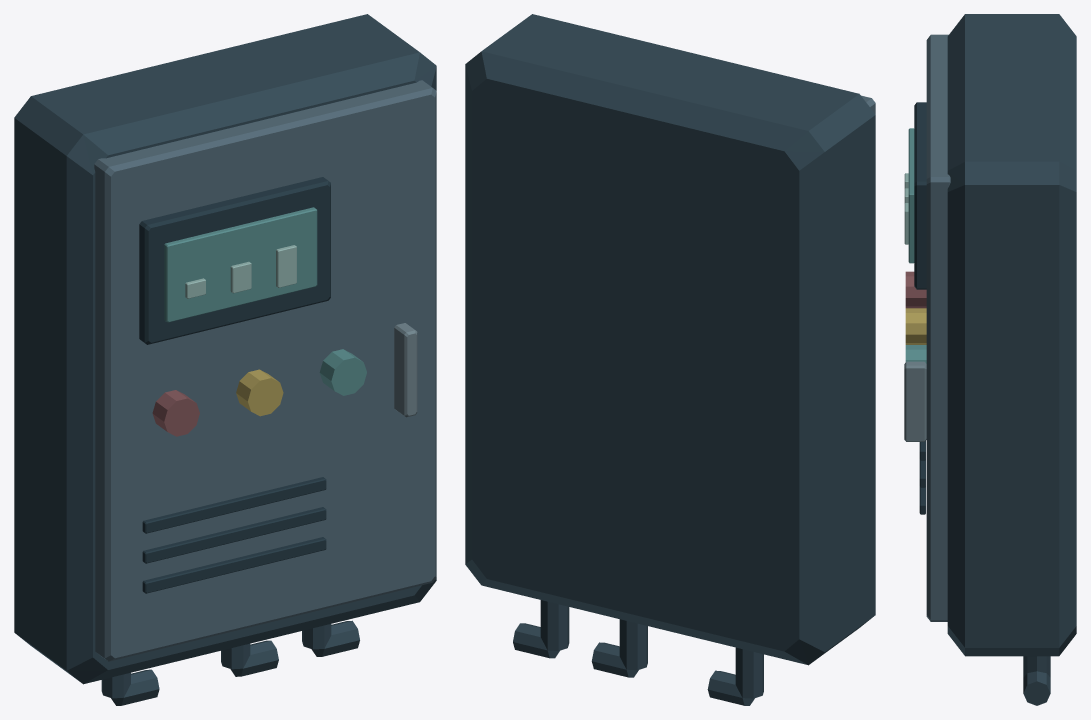
File: 05_ControlCabinet.obj
The picture shows the model from 3 angles, left to right: view 1: azimuth 30°, elevation 25°; view 2: azimuth 150°, elevation 25°; view 3: azimuth 270°, elevation 25°; orthographic projection. The views are drawn at different scales.
Size of the model in its own units: 1.55 by 2.47 by 0.695.
